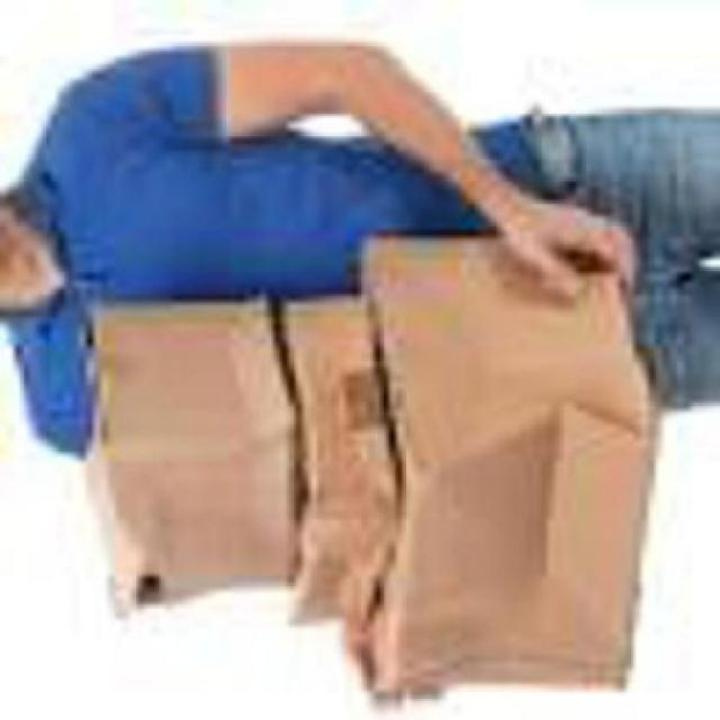box: (362, 224, 647, 702), (81, 292, 293, 670), (282, 283, 396, 634)
